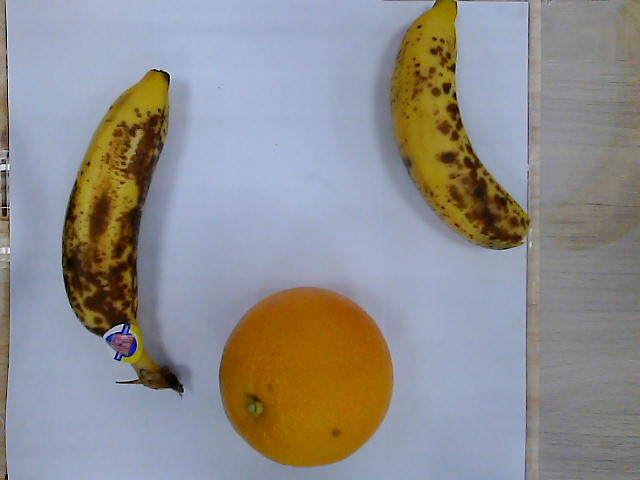fresh_orange: (219, 284, 394, 469)
rotten_banana: (63, 69, 188, 395), (390, 1, 533, 251)
